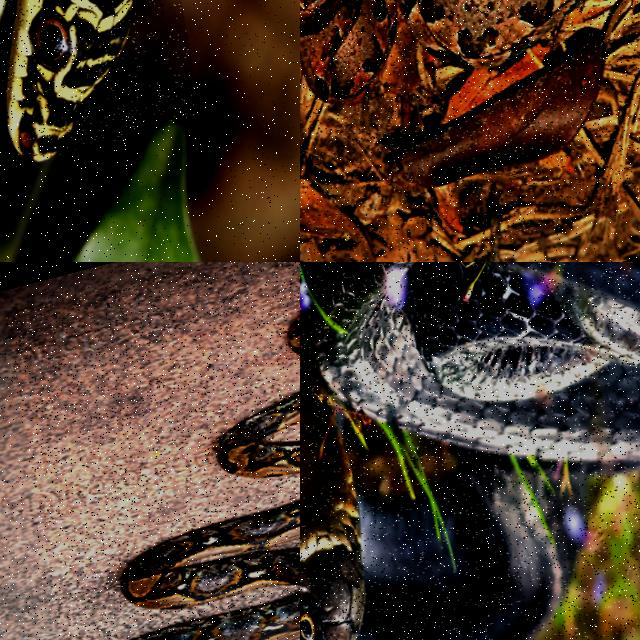Calloselasma rhodostoma: (300, 0, 580, 101)
Chrysopelea ornata: (7, 0, 132, 160)
Malayopython reticulatus: (123, 501, 299, 609)
Ophiophagus hannah: (300, 366, 577, 639)
snake: (300, 366, 577, 639), (300, 0, 580, 101), (7, 0, 132, 160), (123, 501, 299, 609)
